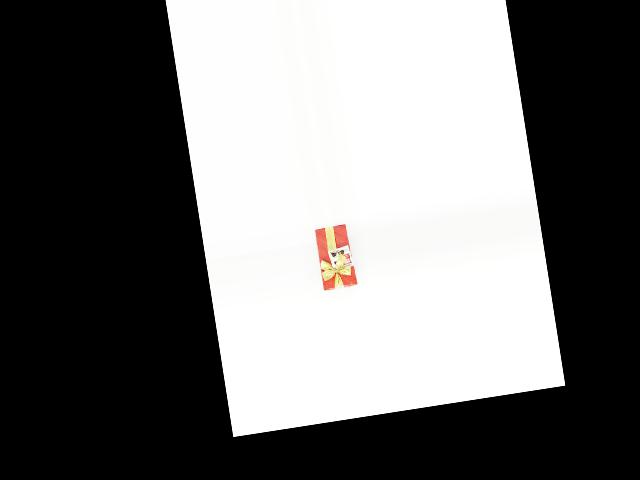chocolate: (311, 224, 357, 293)
